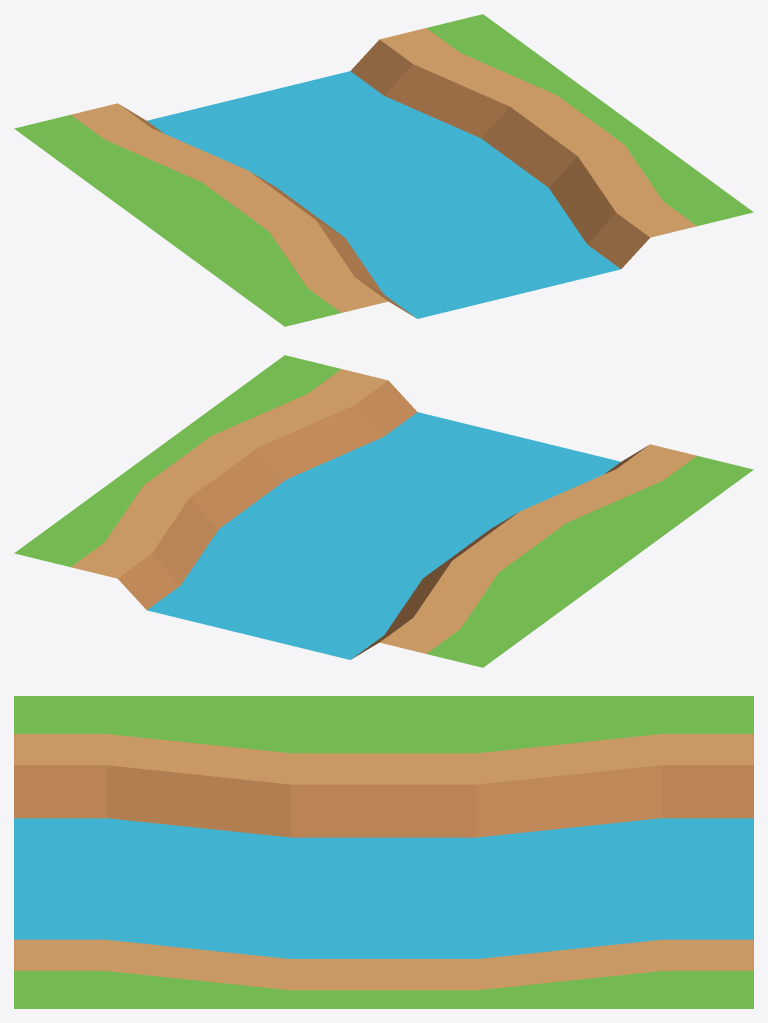
The model's file is river.glb.
The picture shows the model from 3 angles, top to bottom: view 1: azimuth 30°, elevation 25°; view 2: azimuth 150°, elevation 25°; view 3: azimuth 270°, elevation 25°; orthographic projection. The views are drawn at different scales.
Parts seen in each view (by area): view 1: ground_riverStraight; view 2: ground_riverStraight; view 3: ground_riverStraight.
Boxes of the visible parts, x1=… form: ground_riverStraight: x1=14, y1=14, x2=753, y2=326; ground_riverStraight: x1=14, y1=355, x2=753, y2=667; ground_riverStraight: x1=14, y1=696, x2=753, y2=1008.
Size of the model in its own units: 4 by 0.2002 by 4.
